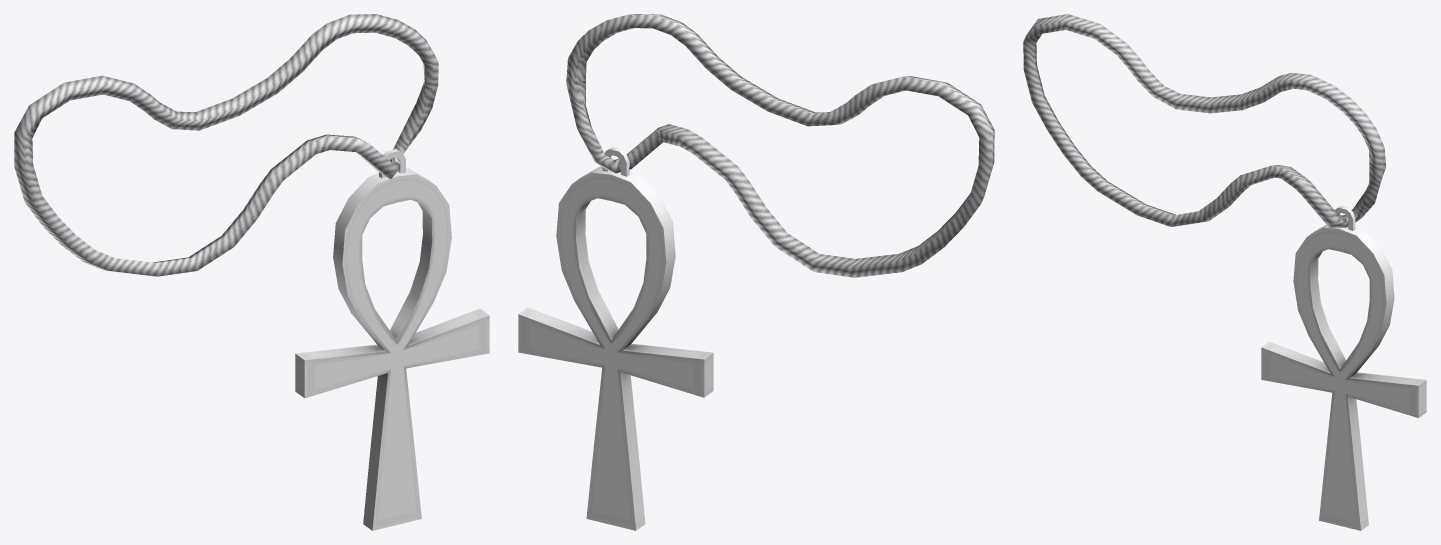
Rendered from 173_an_ankh_pendant.fbx.
3 renders of one model, left to right at view 1: azimuth 30°, elevation 25°; view 2: azimuth 150°, elevation 25°; view 3: azimuth 330°, elevation 25°, orthographic. The views are drawn at different scales.
Parts seen in each view (by area): view 1: 173_an_ankh_pendant; view 2: 173_an_ankh_pendant; view 3: 173_an_ankh_pendant.
Boxes of the visible parts, box(x1,y1,x2,y2) form: 173_an_ankh_pendant: box(14, 14, 489, 530); 173_an_ankh_pendant: box(518, 14, 994, 530); 173_an_ankh_pendant: box(1023, 14, 1426, 530).
Size of the model in its own units: 11.42 by 12.05 by 0.8232.
